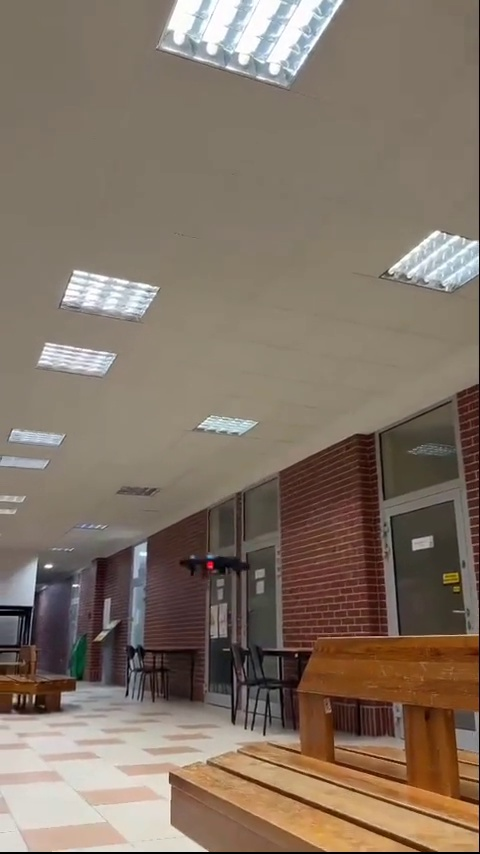drone: (182, 550, 251, 590)
